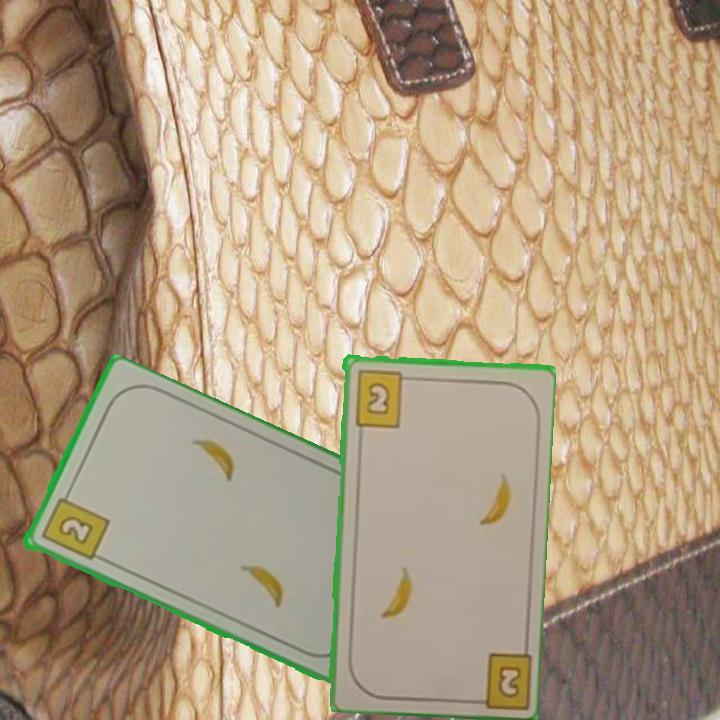2b: (37, 487, 111, 563), (464, 647, 532, 708), (351, 366, 414, 429)
